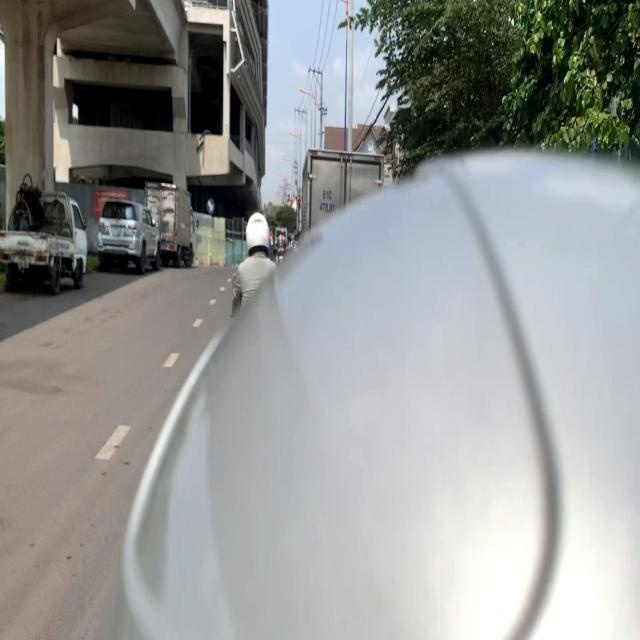bien_hieu_lenh: (206, 198, 215, 215)
